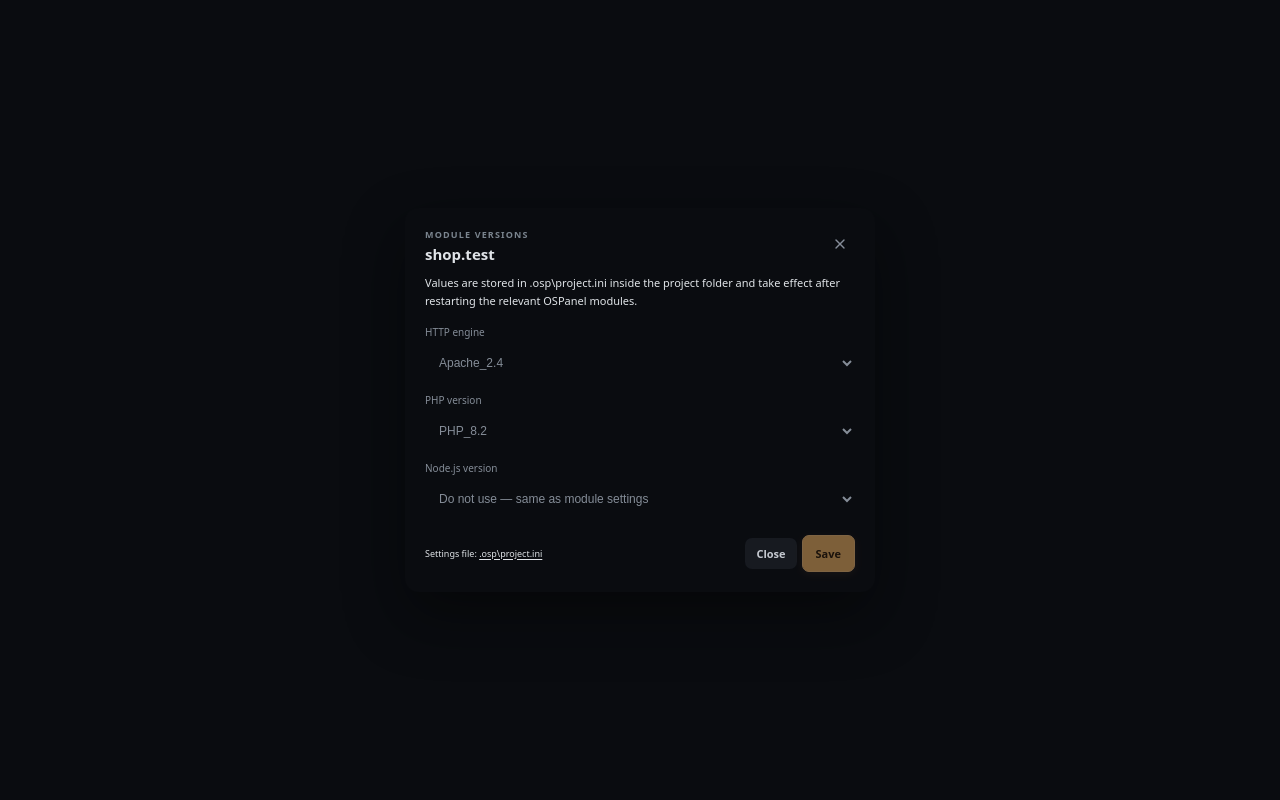
Scenario: ProjectModulesDialog › saves the draft and clears the dirty state
Select "Nginx_1.25" in the dropdown labelled "HTTP engine": (640, 362) [425,344,855,380]
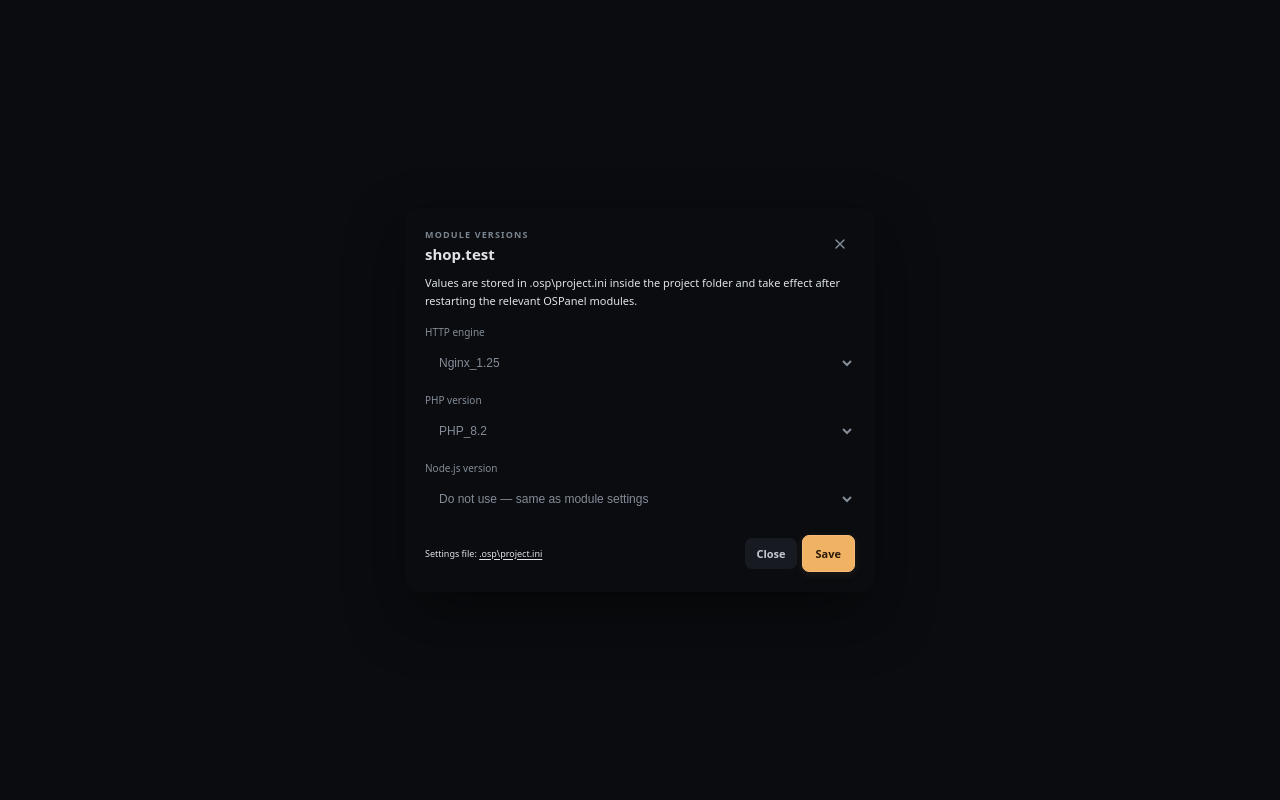
Expected: the button "Save" is enabled
Click the button "Save": (828, 553) [802,534,855,572]
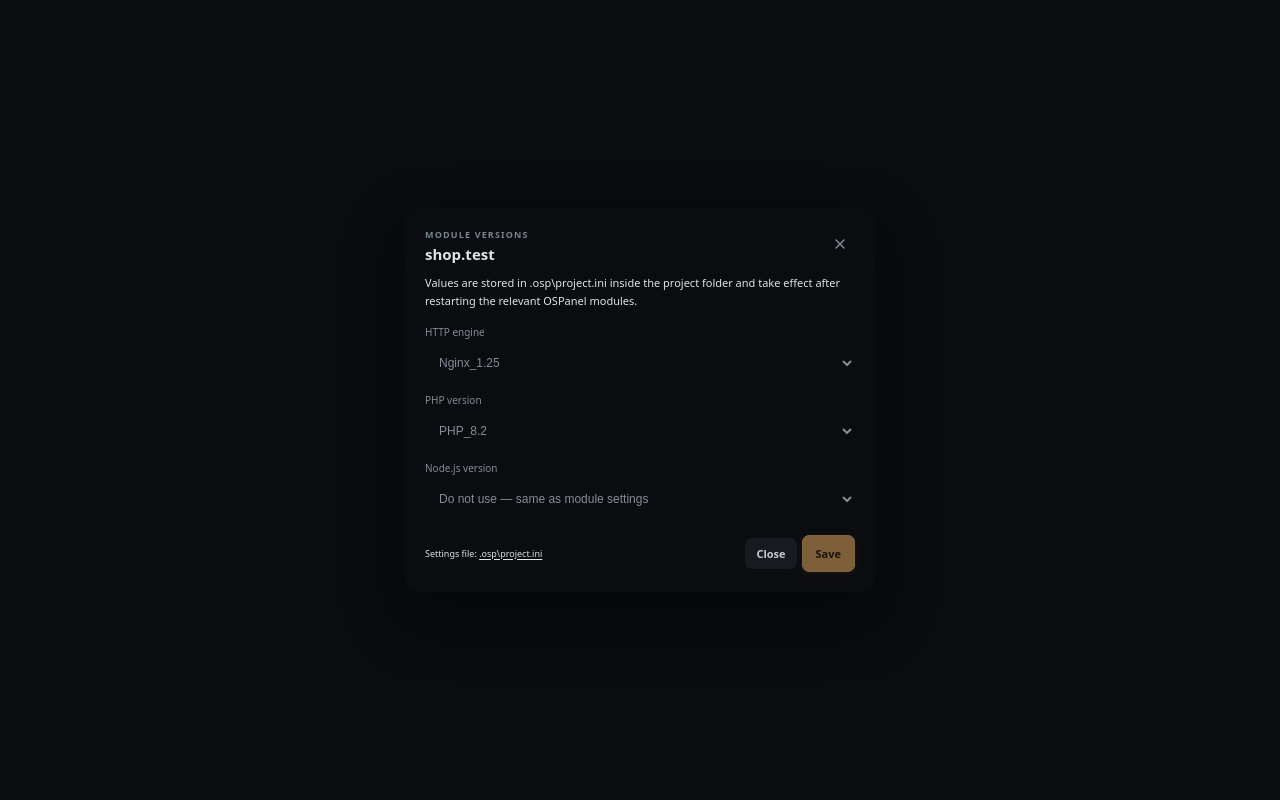
Expected: the button "Save" is disabled, [802,534,855,572]
